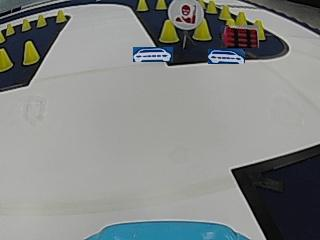evil: (168, 0, 202, 30)
